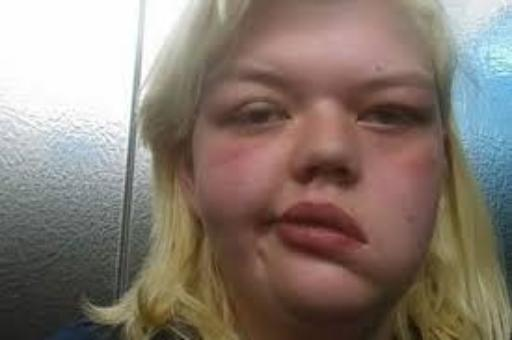left_eye: (357, 111, 420, 134)
left_lip_corner: (349, 227, 377, 252)
right_eye: (224, 107, 296, 131)
right_lip_corner: (267, 210, 289, 230)
